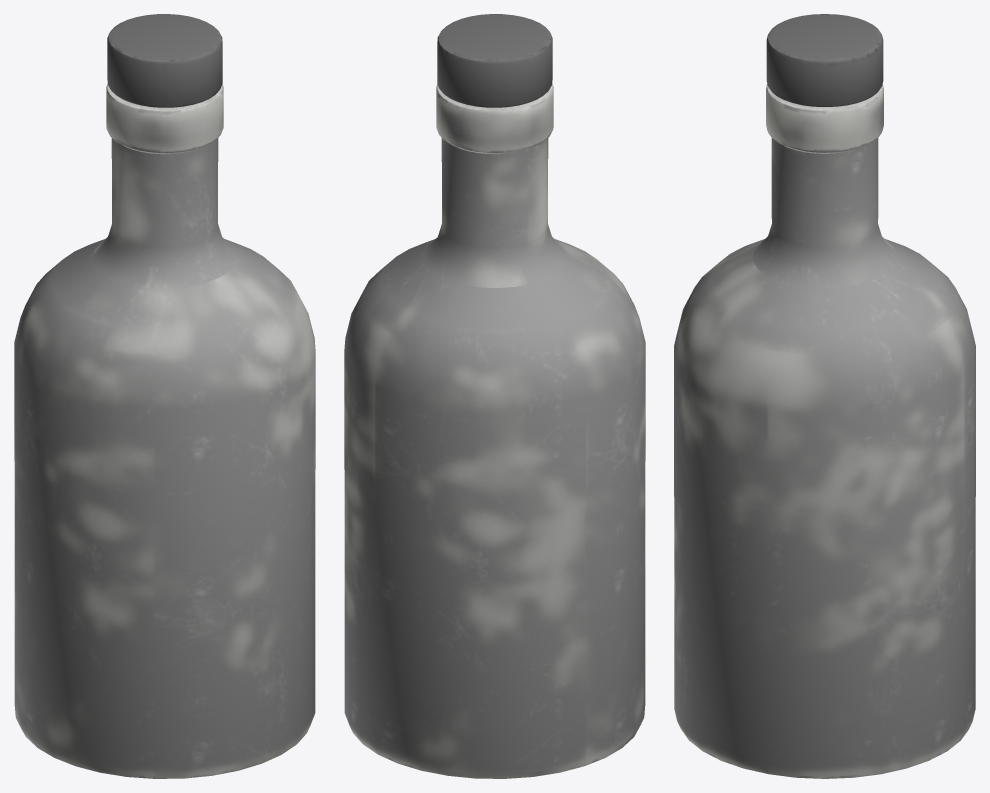
The model's file is Gin 1 .fbx.
3 renders of one model, left to right at view 1: azimuth 30°, elevation 25°; view 2: azimuth 150°, elevation 25°; view 3: azimuth 270°, elevation 25°, orthographic.
Visible parts, largest first — view 1: Cylinder.002; view 2: Cylinder.002; view 3: Cylinder.002.
Part boxes in pixels (x1,y1,x2,y2): Cylinder.002: [14, 14, 315, 778]; Cylinder.002: [344, 14, 645, 778]; Cylinder.002: [674, 14, 975, 778].
Size of the model in its own units: 14.68 by 36.67 by 14.68.
